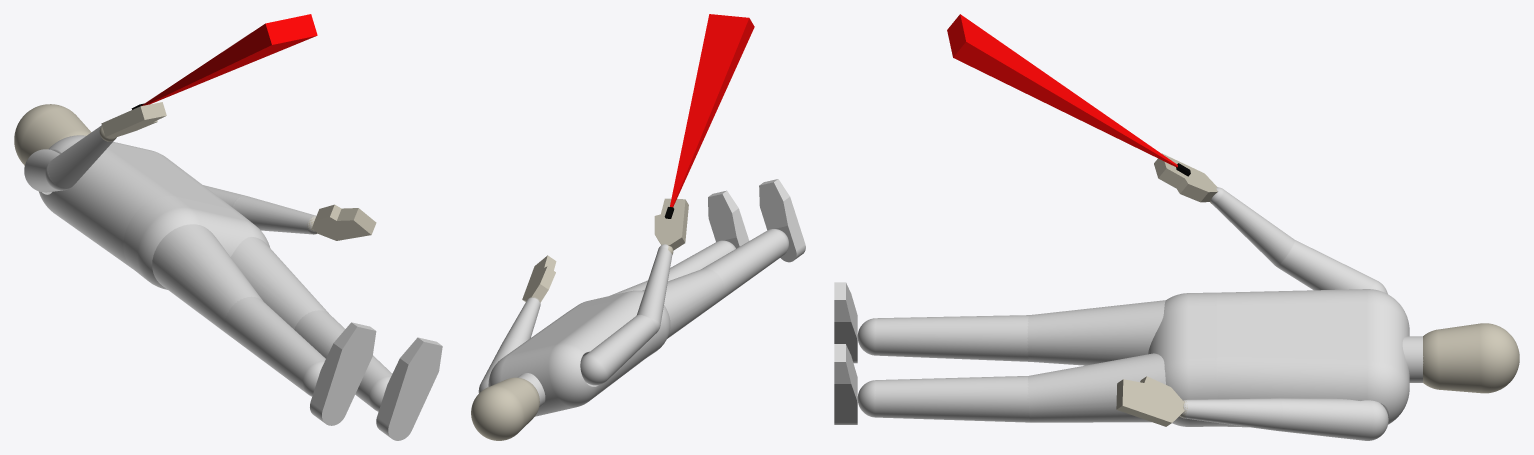
The model's file is homme scan.glb.
The picture shows the model from 3 angles, left to right: view 1: azimuth 30°, elevation 25°; view 2: azimuth 150°, elevation 25°; view 3: azimuth 270°, elevation 25°; orthographic projection. The views are drawn at different scales.
Parts seen in each view (by area): view 1: Upper Leg__Upper Leg (×2), Torso__Torso, Foot__Foot (×2), Lower Leg__Lower Leg (×2), Pelvis-Abdomen__Pelvis-Abdomen, Lower Arm__Lower Arm (×2), Part 1, Hand__Hand (×2), Head__Head, Upper Arm__Upper Arm; view 2: Torso__Torso, Part 1, Foot__Foot (×2), Lower Leg__Lower Leg (×2), Head__Head, Upper Arm__Upper Arm (×2), Upper Leg__Upper Leg, Lower Arm__Lower Arm (×2), Hand__Hand (×2), Pelvis-Abdomen__Pelvis-Abdomen; view 3: Torso__Torso, Lower Leg__Lower Leg (×2), Upper Leg__Upper Leg (×2), Upper Arm__Upper Arm (×2), Pelvis-Abdomen__Pelvis-Abdomen, Part 1, Head__Head, Lower Arm__Lower Arm (×2), Hand__Hand (×2), Foot__Foot (×2).
Part boxes in pixels (x1,y1,x2,y2): Upper Leg__Upper Leg (×2): (152, 224, 328, 335); Torso__Torso: (38, 135, 237, 269); Foot__Foot (×2): (310, 322, 442, 440); Lower Leg__Lower Leg (×2): (225, 296, 392, 411); Pelvis-Abdomen__Pelvis-Abdomen: (123, 195, 269, 289); Lower Arm__Lower Arm (×2): (45, 125, 316, 234); Part 1: (141, 14, 317, 105); Hand__Hand (×2): (99, 102, 376, 240); Head__Head: (14, 104, 91, 165); Upper Arm__Upper Arm: (24, 149, 71, 192); Torso__Torso: (488, 300, 654, 416); Part 1: (670, 14, 754, 207); Foot__Foot (×2): (708, 179, 805, 262); Lower Leg__Lower Leg (×2): (668, 229, 788, 300); Head__Head: (471, 377, 539, 440); Upper Arm__Upper Arm (×2): (478, 314, 660, 392); Upper Leg__Upper Leg: (642, 268, 724, 338); Lower Arm__Lower Arm (×2): (504, 244, 672, 343); Hand__Hand (×2): (522, 198, 688, 303); Pelvis-Abdomen__Pelvis-Abdomen: (567, 290, 670, 357); Torso__Torso: (1215, 289, 1423, 427); Lower Leg__Lower Leg (×2): (857, 315, 1031, 422); Upper Leg__Upper Leg (×2): (1027, 300, 1165, 422); Upper Arm__Upper Arm (×2): (1275, 240, 1388, 440); Pelvis-Abdomen__Pelvis-Abdomen: (1148, 292, 1218, 426); Part 1: (947, 14, 1177, 167); Head__Head: (1423, 323, 1519, 393); Lower Arm__Lower Arm (×2): (1180, 187, 1294, 430); Hand__Hand (×2): (1116, 153, 1217, 426); Foot__Foot (×2): (834, 282, 857, 424).
Bounding box in the file's own units: 0.7464 × 1.13 × 1.86.
